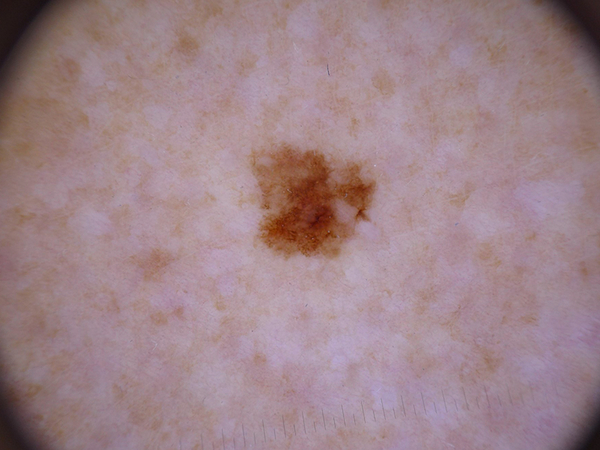Detected Lesion: (232, 135, 385, 259)
